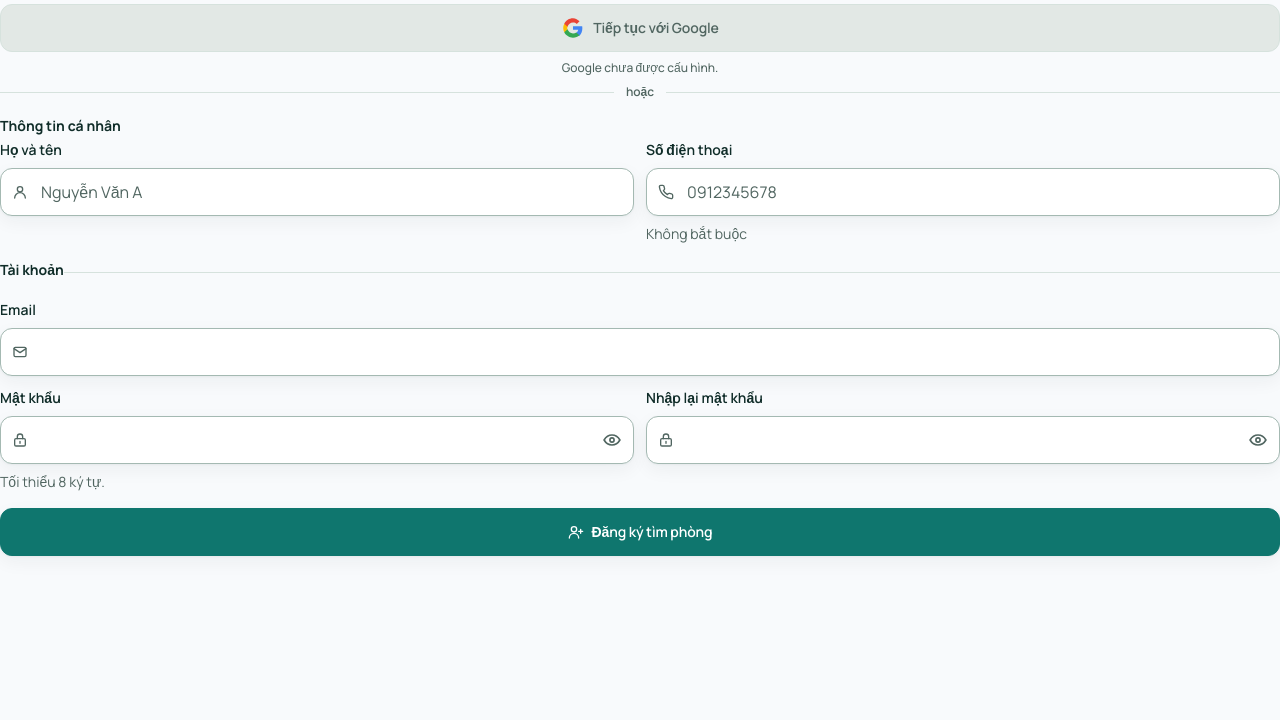
RegistrationForm › renders a safe network ambiguity error without automatically replaying registration
Type "  Nguyễn Văn An  " into the field named "Họ và tên (bắt buộc)" at (317, 192), box x1=0 y1=168 x2=634 y2=216
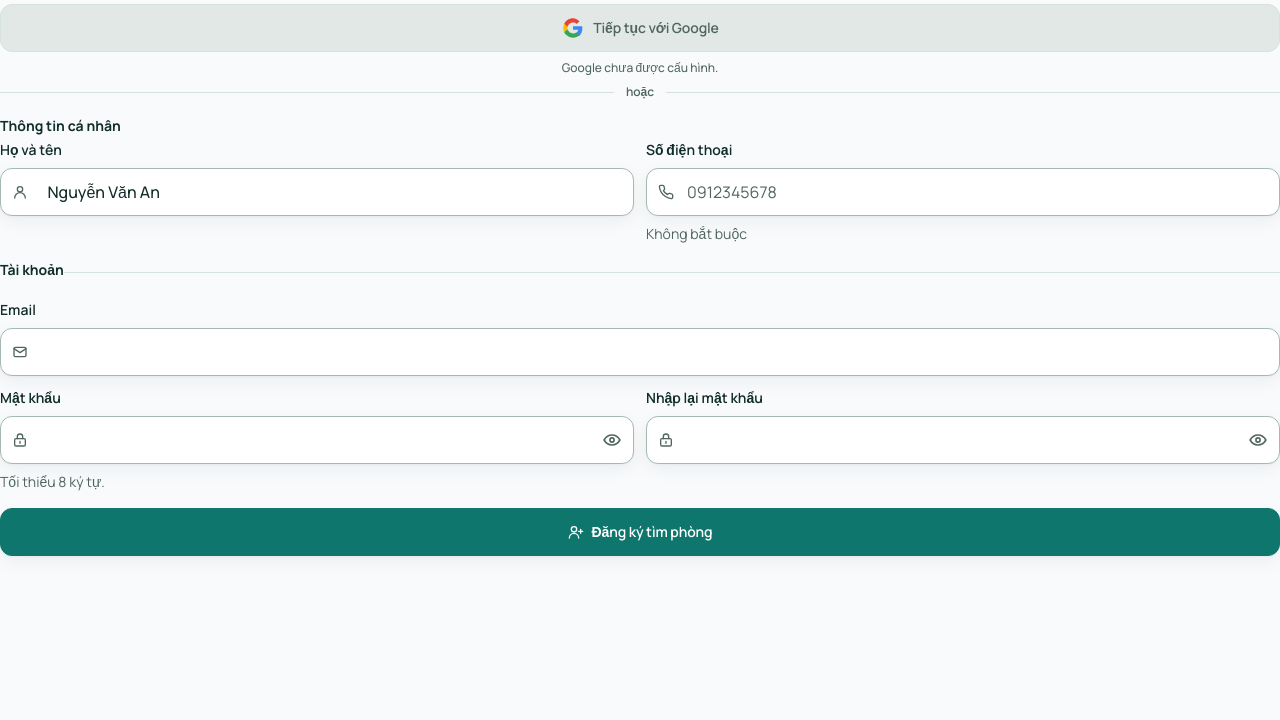
Type "tenant@example.com" into the field named "Email (bắt buộc)" at (640, 352), box x1=0 y1=328 x2=1279 y2=376
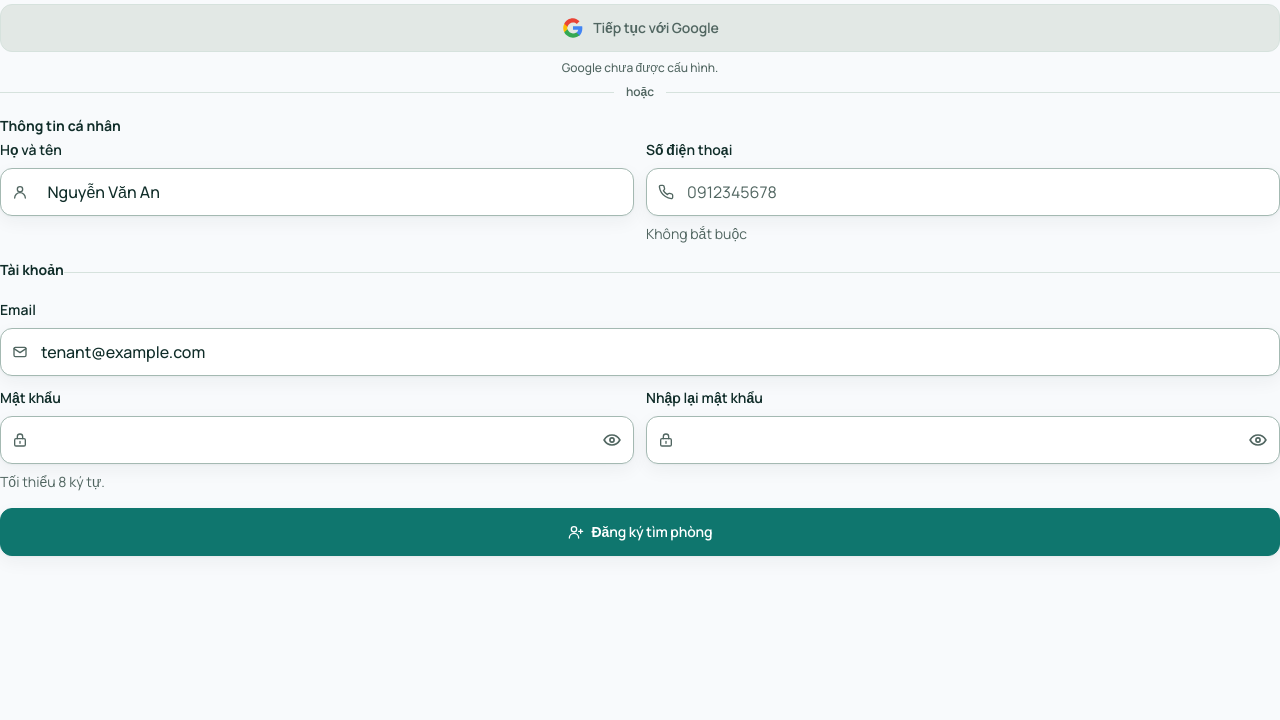
Type "password" into the password field named "Mật khẩu (bắt buộc)" at (317, 440), box x1=0 y1=416 x2=634 y2=464
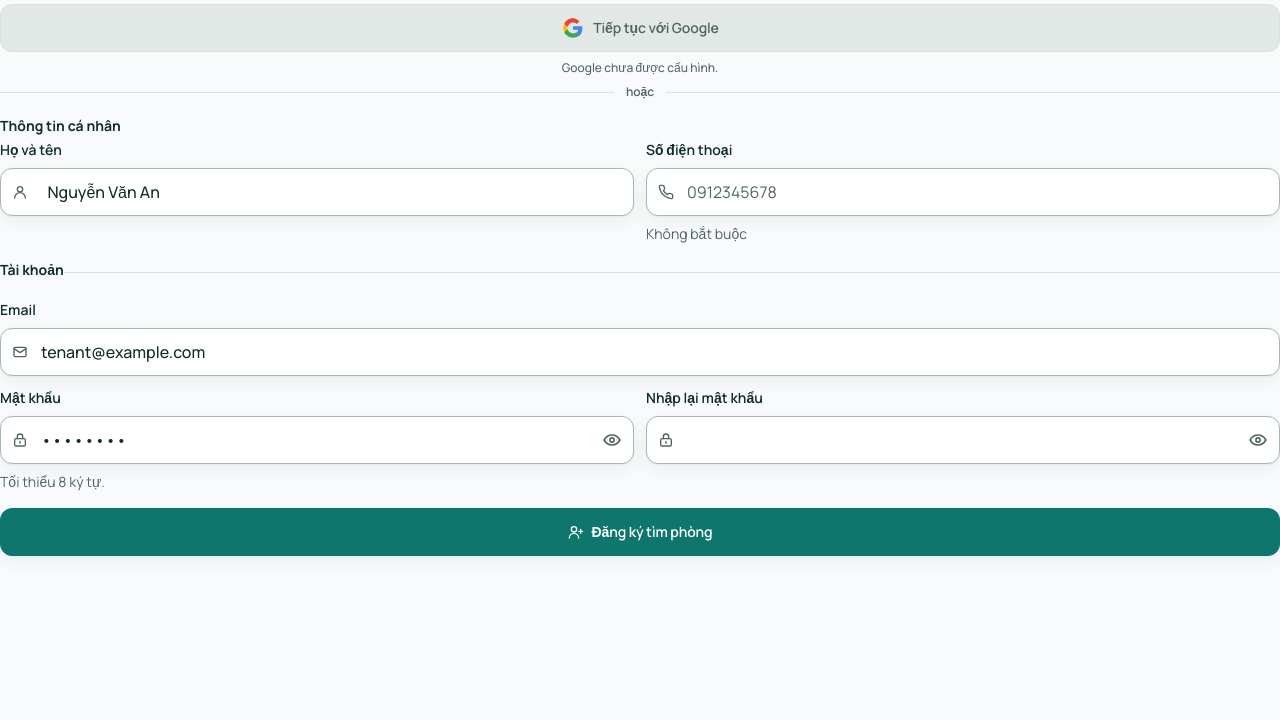
Type "password" into the password field named "Nhập lại mật khẩu (bắt buộc)" at (963, 440), box x1=646 y1=416 x2=1279 y2=464
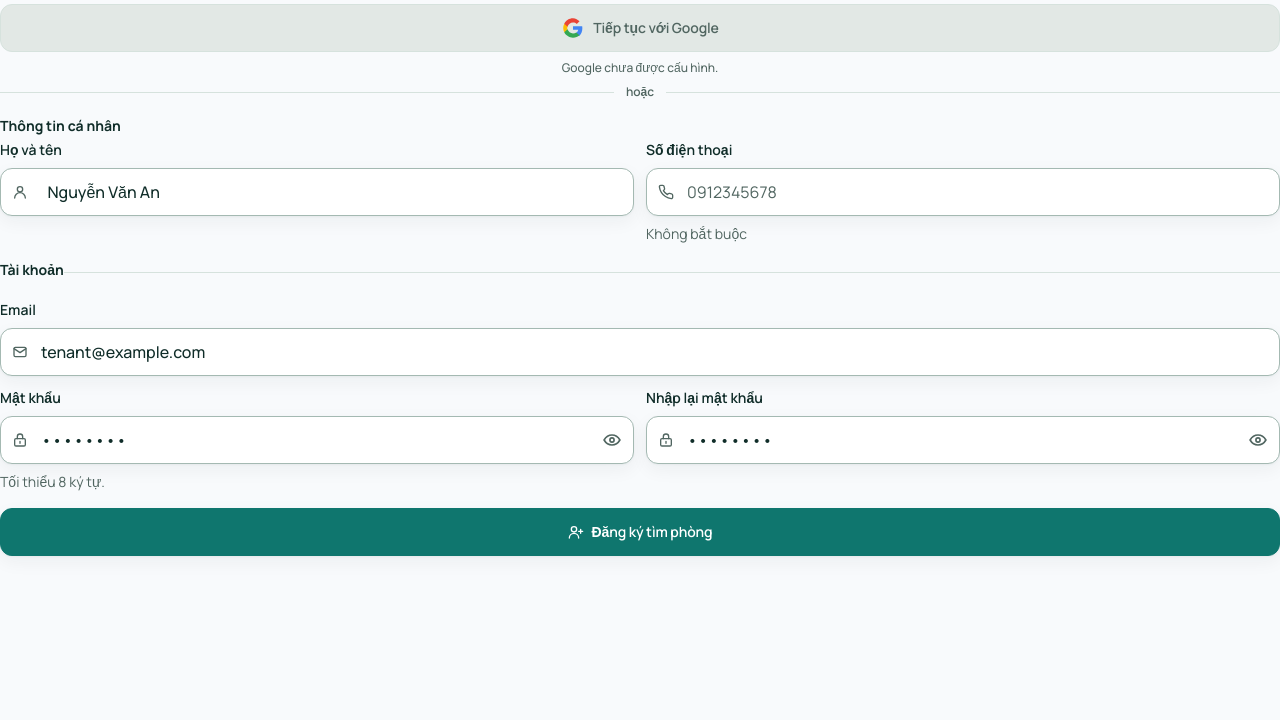
Click the button "Đăng ký tìm phòng" at (640, 532), box x1=0 y1=508 x2=1279 y2=556
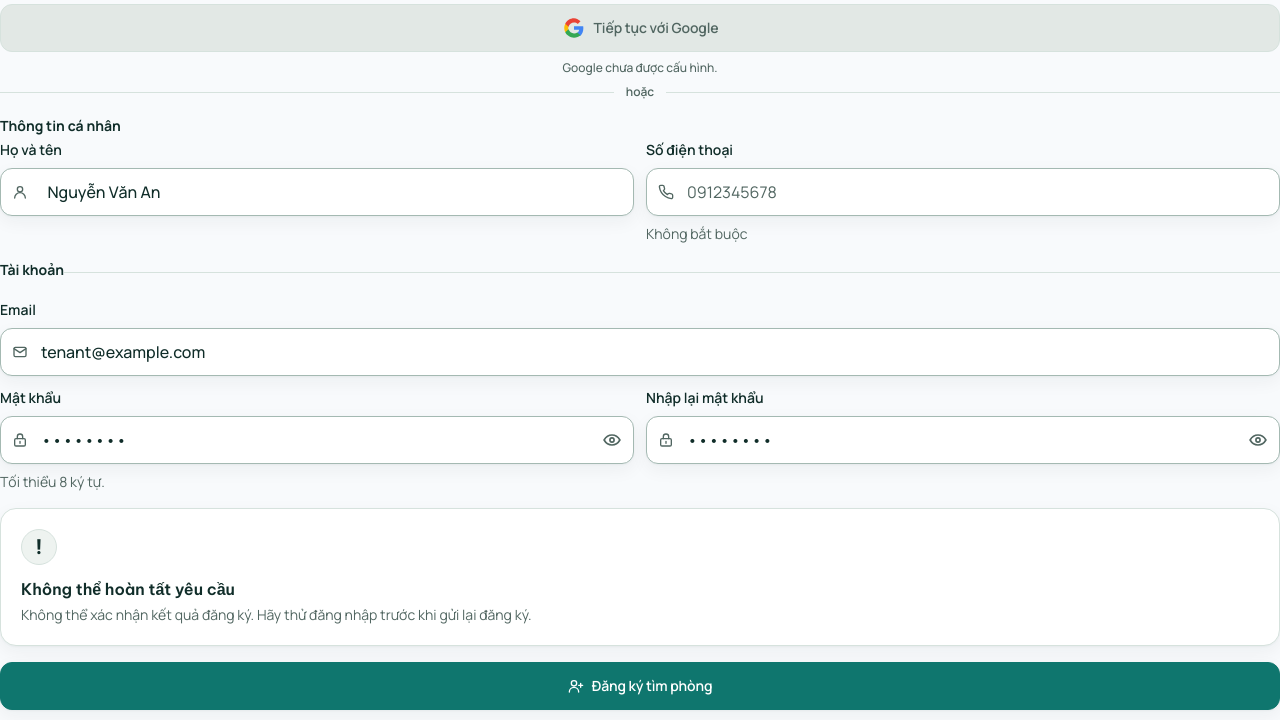
Now the message shows "Hãy thử đăng nhập trước", box x1=21 y1=605 x2=532 y2=624
